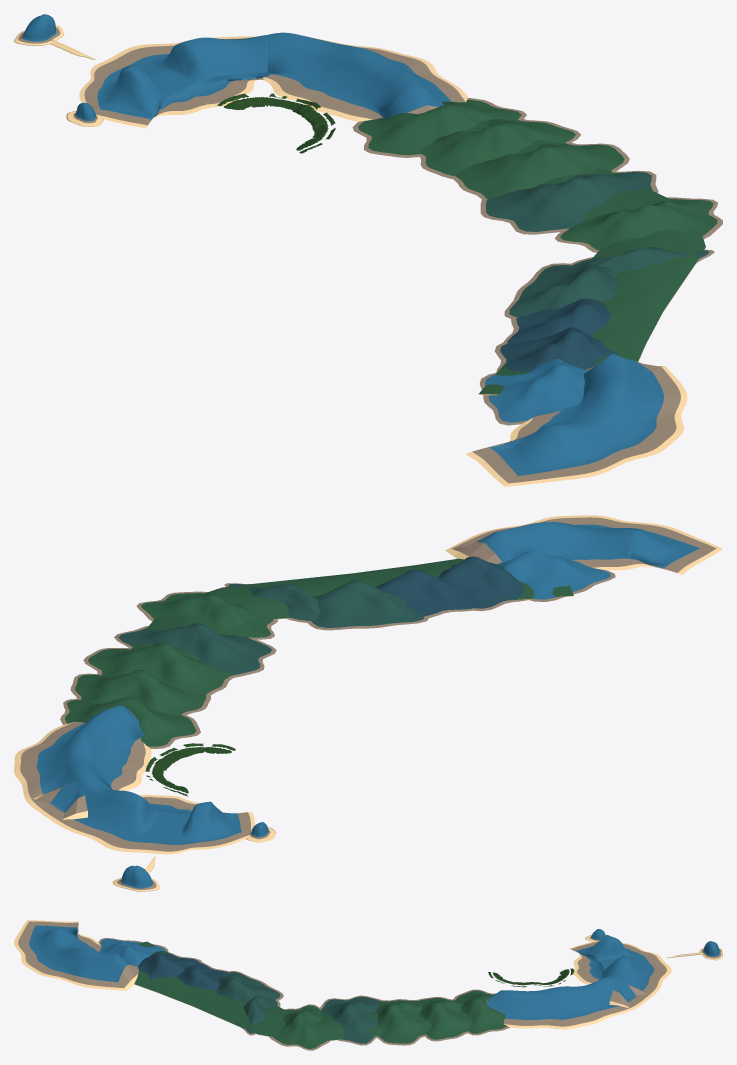
File: range_forest_distinct_background.glb
The picture shows the model from 3 angles, top to bottom: view 1: azimuth 30°, elevation 25°; view 2: azimuth 150°, elevation 25°; view 3: azimuth 270°, elevation 25°; orthographic projection. The views are drawn at different scales.
Parts seen in each view (by area): view 1: background_distant_range_south, background_distant_range_north, background_distant_range_middle, southern_range_connection_lowland, southeast_range_ridge_3, southeast_range_ridge_2, background_distant_range_southeast_connector, southeast_range_ridge_4, southeast_range_ridge_1, southern_range_connection_ridge_4, southern_range_connection_ridge_1, southern_range_connection_ridge_3 (+4 smaller); view 2: background_distant_range_south, background_distant_range_north, background_distant_range_middle, southern_range_connection_lowland, southeast_range_ridge_3, southeast_range_ridge_2, southern_range_connection_ridge_1, southeast_range_ridge_1, southeast_range_ridge_4, southern_range_connection_ridge_4, background_distant_range_southeast_connector, southern_range_connection_ridge_3 (+4 smaller); view 3: background_distant_range_south, background_distant_range_middle, southern_range_connection_lowland, background_distant_range_north, southeast_range_ridge_2, southeast_range_ridge_3, southeast_range_ridge_4, southeast_range_ridge_1, background_distant_range_southeast_connector, southern_range_connection_ridge_1, southern_range_connection_ridge_3, southern_range_connection_ridge_4 (+4 smaller).
Part boxes in pixels (box(x1,y1,x2,y2)): background_distant_range_south: box(466, 353, 687, 486); background_distant_range_north: box(79, 35, 271, 127); background_distant_range_middle: box(262, 32, 467, 121); southern_range_connection_lowland: box(465, 120, 705, 395); southeast_range_ridge_3: box(480, 170, 658, 234); southeast_range_ridge_2: box(452, 143, 629, 199); background_distant_range_southeast_connector: box(352, 98, 526, 157); southeast_range_ridge_4: box(555, 197, 722, 252); southeast_range_ridge_1: box(419, 119, 580, 178); southern_range_connection_ridge_4: box(479, 359, 587, 425); southern_range_connection_ridge_1: box(504, 263, 618, 318); southern_range_connection_ridge_3: box(494, 327, 640, 372); background_distant_range_south: box(445, 515, 722, 574); background_distant_range_north: box(33, 776, 254, 854); background_distant_range_middle: box(14, 705, 151, 819); southern_range_connection_lowland: box(101, 558, 573, 703); southeast_range_ridge_3: box(114, 623, 276, 677); southeast_range_ridge_2: box(83, 642, 234, 695); southern_range_connection_ridge_1: box(308, 580, 428, 630); southeast_range_ridge_1: box(70, 670, 210, 715); southeast_range_ridge_4: box(136, 591, 277, 639); southern_range_connection_ridge_4: box(497, 551, 615, 601); background_distant_range_southeast_connector: box(60, 697, 200, 748); southern_range_connection_ridge_3: box(438, 556, 528, 611); background_distant_range_south: box(14, 920, 138, 990); background_distant_range_middle: box(485, 976, 646, 1029); southern_range_connection_lowland: box(134, 941, 472, 1040); background_distant_range_north: box(569, 935, 671, 1007); southeast_range_ridge_2: box(376, 999, 426, 1045); southeast_range_ridge_3: box(320, 995, 381, 1045); southeast_range_ridge_4: box(269, 1004, 330, 1050); southeast_range_ridge_1: box(417, 997, 471, 1041); background_distant_range_southeast_connector: box(453, 989, 509, 1035); southern_range_connection_ridge_1: box(216, 971, 283, 1003); southern_range_connection_ridge_3: box(138, 952, 202, 980); southern_range_connection_ridge_4: box(98, 938, 168, 966).
Size of what is drawn, in the model's own units: 4212 by 324 by 9674.
